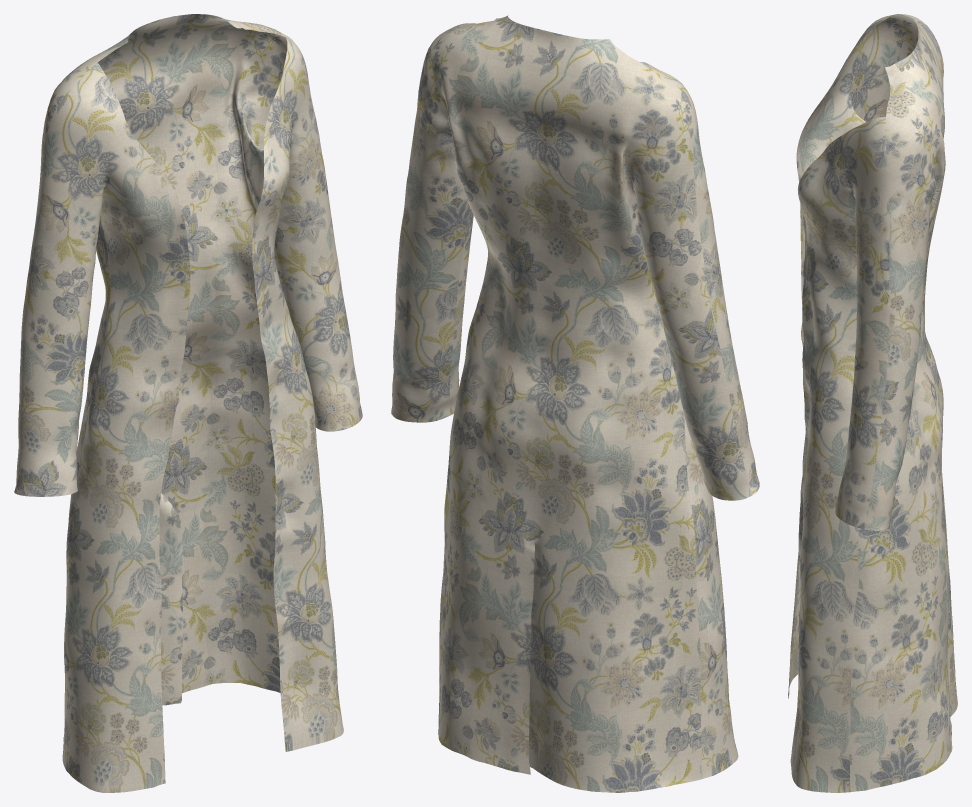
The model's file is above_knee.glb.
3 views of the same model, side by side, from view 1: azimuth 30°, elevation 25°; view 2: azimuth 150°, elevation 25°; view 3: azimuth 270°, elevation 25° (orthographic). The views are drawn at different scales.
Visible parts, largest first — view 1: Long_Inner_With Vents; view 2: Long_Inner_With Vents; view 3: Long_Inner_With Vents.
Part boxes in pixels (left/top/right/bottom): Long_Inner_With Vents: left=14, top=14, right=362, bottom=792; Long_Inner_With Vents: left=391, top=15, right=759, bottom=792; Long_Inner_With Vents: left=788, top=14, right=957, bottom=792.
Size of the model in its own units: 55.38 by 108 by 23.86.
1 material, 1 textured.
